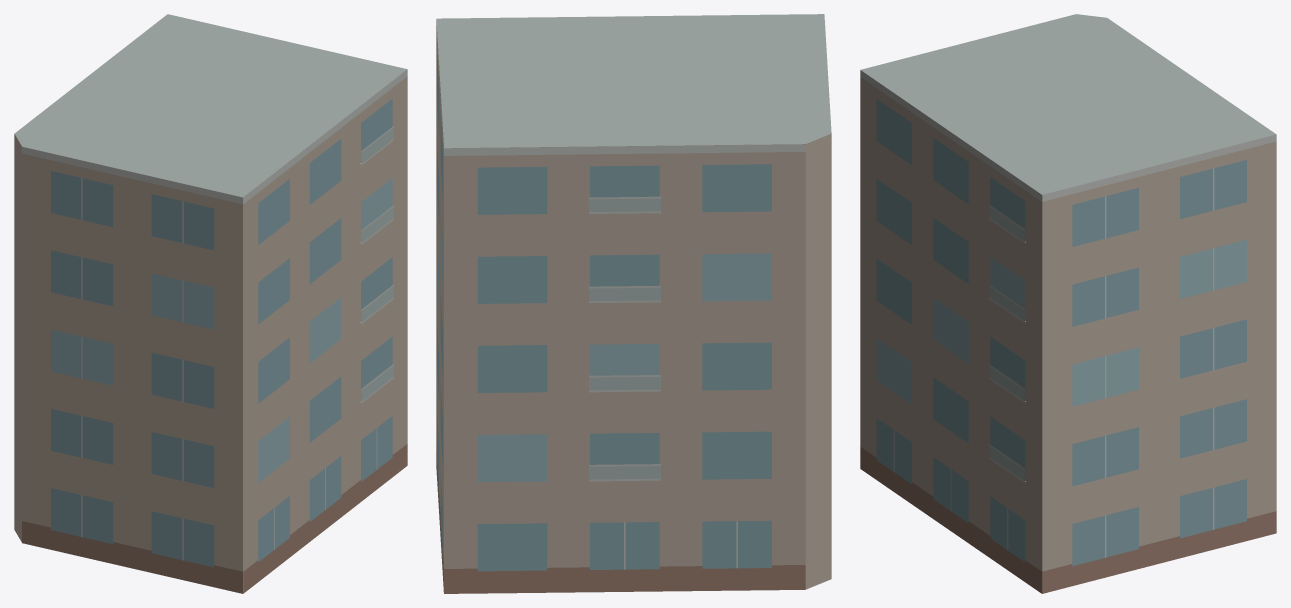
File: survey-upis-32763445.glb
The picture shows the model from 3 angles, left to right: view 1: azimuth 30°, elevation 25°; view 2: azimuth 150°, elevation 25°; view 3: azimuth 270°, elevation 25°; orthographic projection. The views are drawn at different scales.
Parts seen in each view (by area): view 1: survey-upis-32763445.tmp; view 2: survey-upis-32763445.tmp; view 3: survey-upis-32763445.tmp.
Part boxes in pixels (x1,y1,x2,y2): survey-upis-32763445.tmp: [14, 14, 407, 593]; survey-upis-32763445.tmp: [436, 14, 831, 593]; survey-upis-32763445.tmp: [860, 14, 1276, 593].
Size of the model in its own units: 13.63 by 14 by 13.25.
